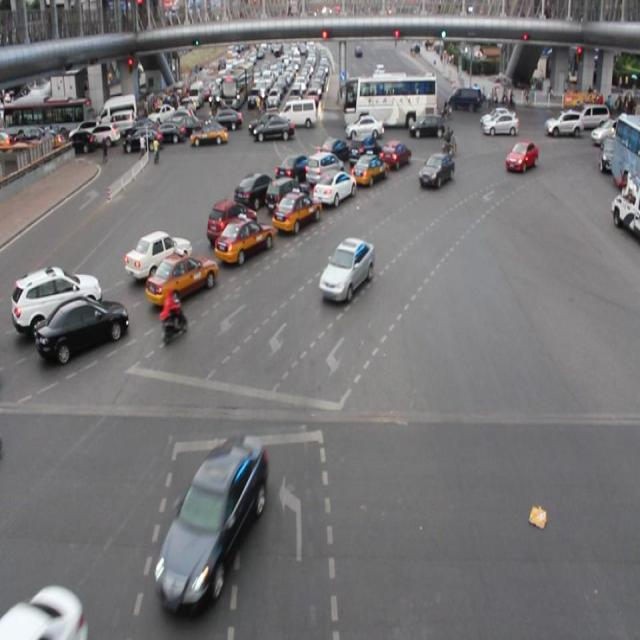car: (157, 445, 262, 600), (13, 262, 101, 335), (36, 296, 128, 357), (0, 584, 90, 640), (146, 248, 218, 307), (124, 227, 192, 281), (320, 236, 374, 302), (215, 216, 275, 266), (205, 196, 258, 246), (272, 188, 322, 232), (416, 149, 456, 192), (312, 170, 357, 208), (266, 176, 309, 213), (233, 170, 273, 208), (349, 152, 389, 187), (306, 149, 343, 186), (274, 153, 312, 187), (378, 136, 411, 172), (348, 133, 382, 167), (505, 139, 538, 173), (318, 135, 352, 167)
